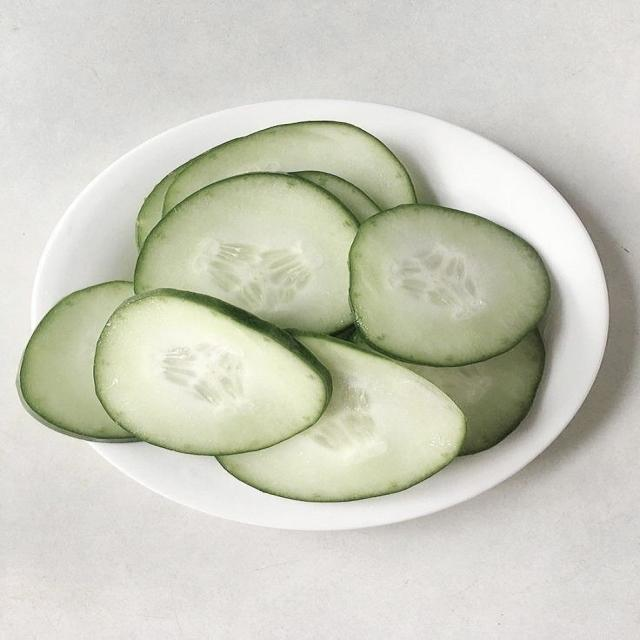cucumber sliced: (219, 335, 465, 501), (94, 290, 330, 454), (135, 174, 358, 333), (350, 206, 549, 366), (164, 121, 415, 211), (19, 282, 135, 441), (405, 330, 544, 455), (294, 171, 379, 222), (136, 166, 183, 249), (333, 325, 355, 340)
